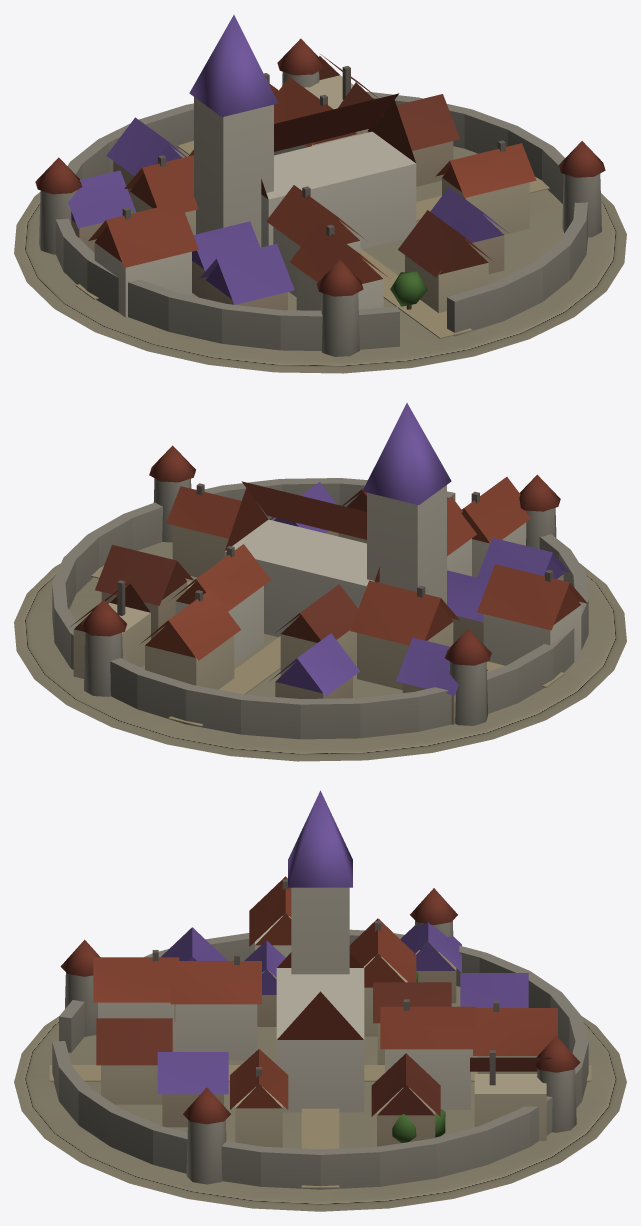
Rendered from settlement_2_3.glb.
3 views of the same model, one above another, from view 1: azimuth 30°, elevation 25°; view 2: azimuth 150°, elevation 25°; view 3: azimuth 270°, elevation 25° (orthographic).
Visible parts, largest first — view 1: part_0; view 2: part_0; view 3: part_0.
Part boxes in pixels (<box>): part_0: <box>14,15,626,373</box>; part_0: <box>14,403,626,761</box>; part_0: <box>14,790,626,1211</box>.
Bounding box in the file's own units: 32.8 × 14.76 × 32.8.
